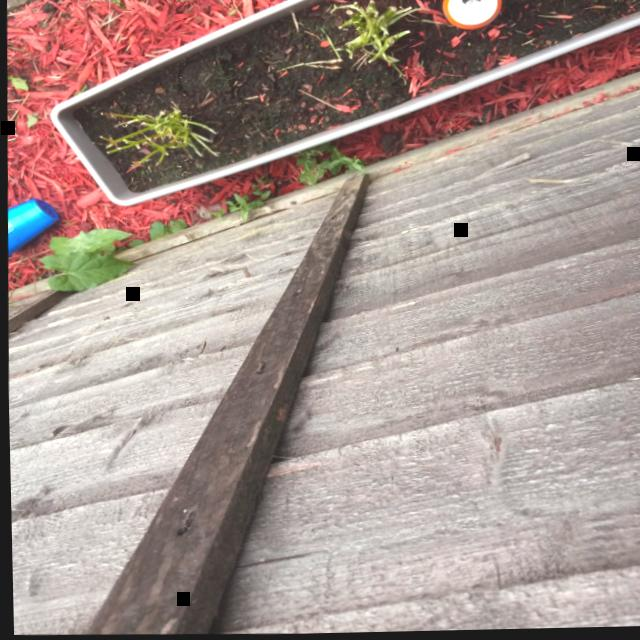Disposable plastic cup: (6, 198, 57, 256)
Drink can: (441, 0, 500, 30)
Pop tab: (465, 0, 478, 16)
